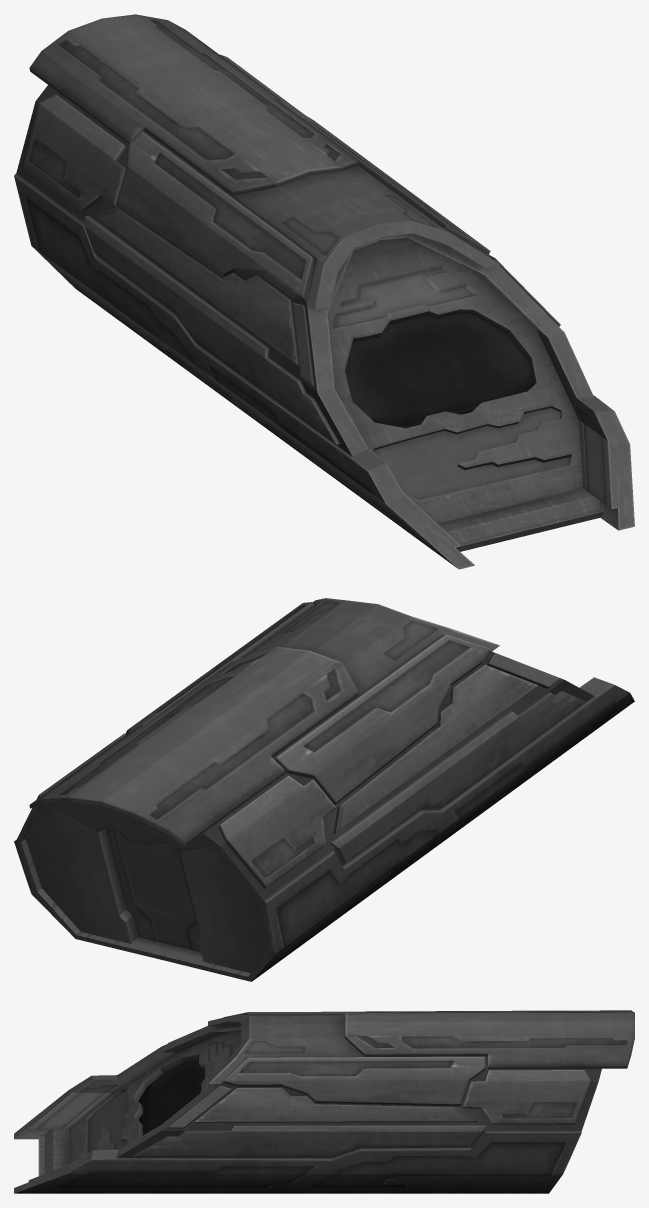
File: Puddle Jumper! 1.fbx
3 views of the same model, one above another, from view 1: azimuth 30°, elevation 25°; view 2: azimuth 150°, elevation 25°; view 3: azimuth 270°, elevation 25° (orthographic). The views are drawn at different scales.
Visible parts, largest first — view 1: PuddleJumper; view 2: PuddleJumper; view 3: PuddleJumper.
Part boxes in pixels (x1=…): PuddleJumper: x1=14, y1=14, x2=634, y2=569; PuddleJumper: x1=14, y1=598, x2=634, y2=981; PuddleJumper: x1=14, y1=1010, x2=634, y2=1193.
Size of the model in its own units: 9.55 by 7.3 by 28.89.
